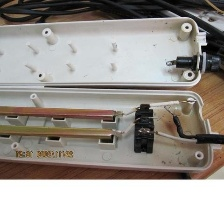three_eye_plug: (0, 80, 222, 176), (0, 12, 222, 90)
